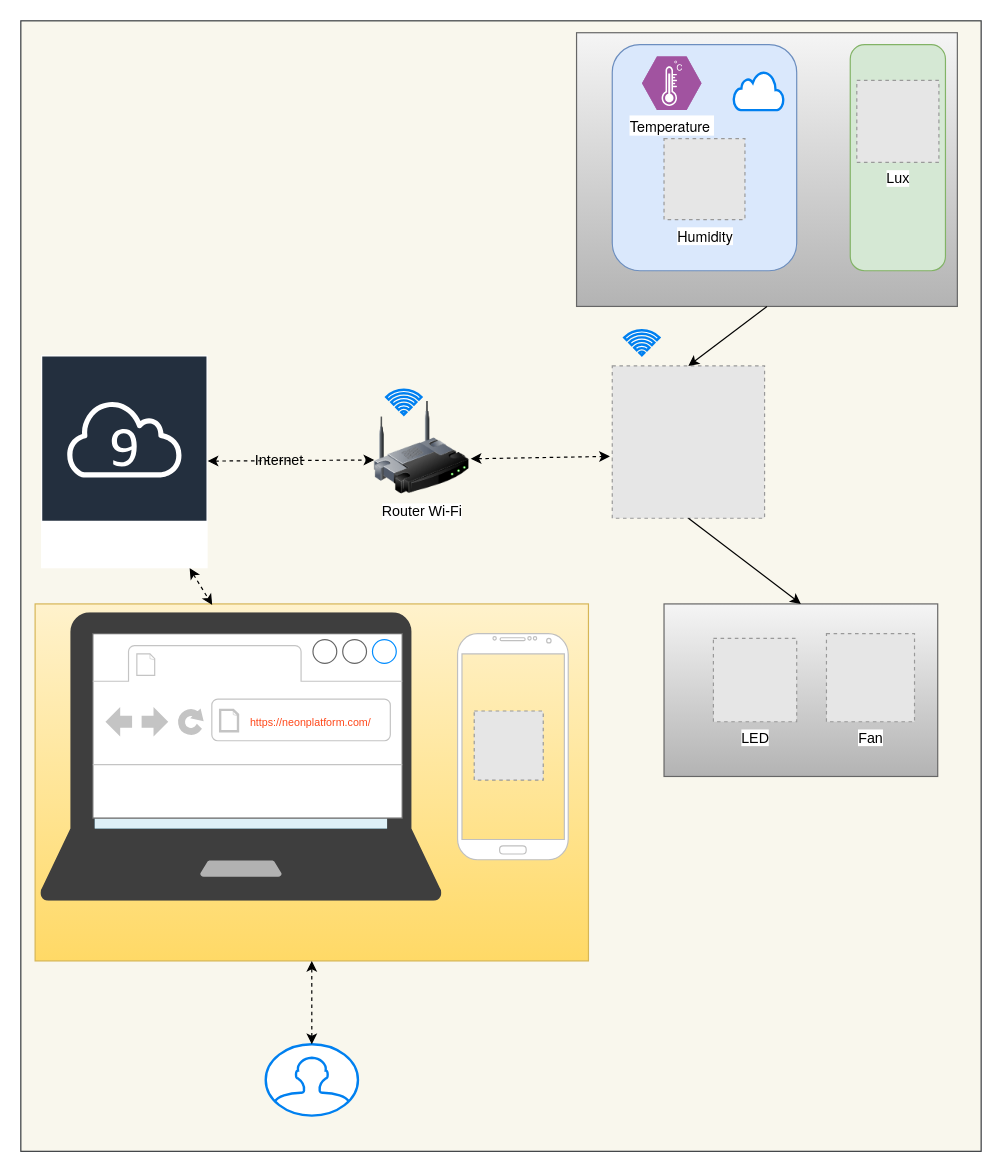
Image size: 1002x1172. Some labels were removed from this diagram. Grey dashed boxes stand in for pictures. The shapes that lost their labels are listed below. From the top down, each one's box as (x1, y1, x2, y2) in pixels, then its label:
(732, 70, 784, 111): CO2
(40, 354, 208, 568): Neon IoT Platform
(163, 647, 295, 679): Page 1
(264, 1042, 359, 1116): User
